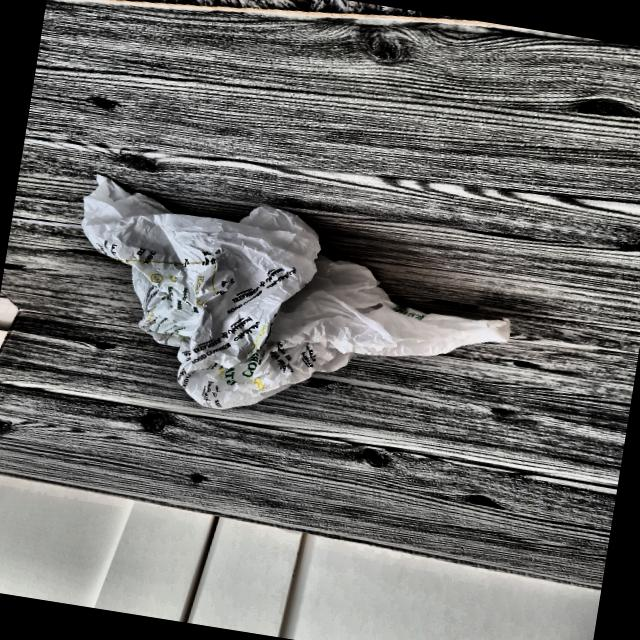plastic bag: (29, 145, 546, 472)
